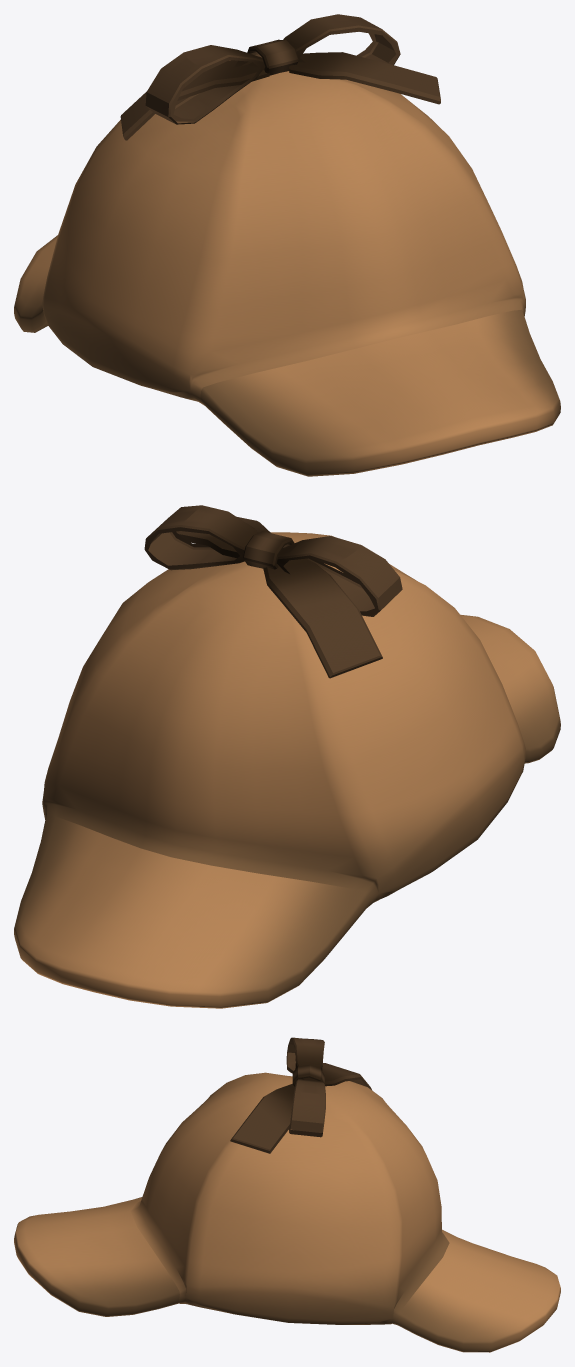
The model's file is HAT_detective.fbx.
3 renders of one model, top to bottom at view 1: azimuth 30°, elevation 25°; view 2: azimuth 150°, elevation 25°; view 3: azimuth 270°, elevation 25°, orthographic. The views are drawn at different scales.
Parts seen in each view (by area): view 1: detective_hat; view 2: detective_hat; view 3: detective_hat.
Boxes of the visible parts, x1,y1,x2,y2 form: detective_hat: [14, 14, 560, 476]; detective_hat: [14, 505, 560, 1008]; detective_hat: [14, 1037, 560, 1352].
Size of the model in its own units: 69.16 by 59.19 by 119.
Materials: 1 (1 with a texture image).
